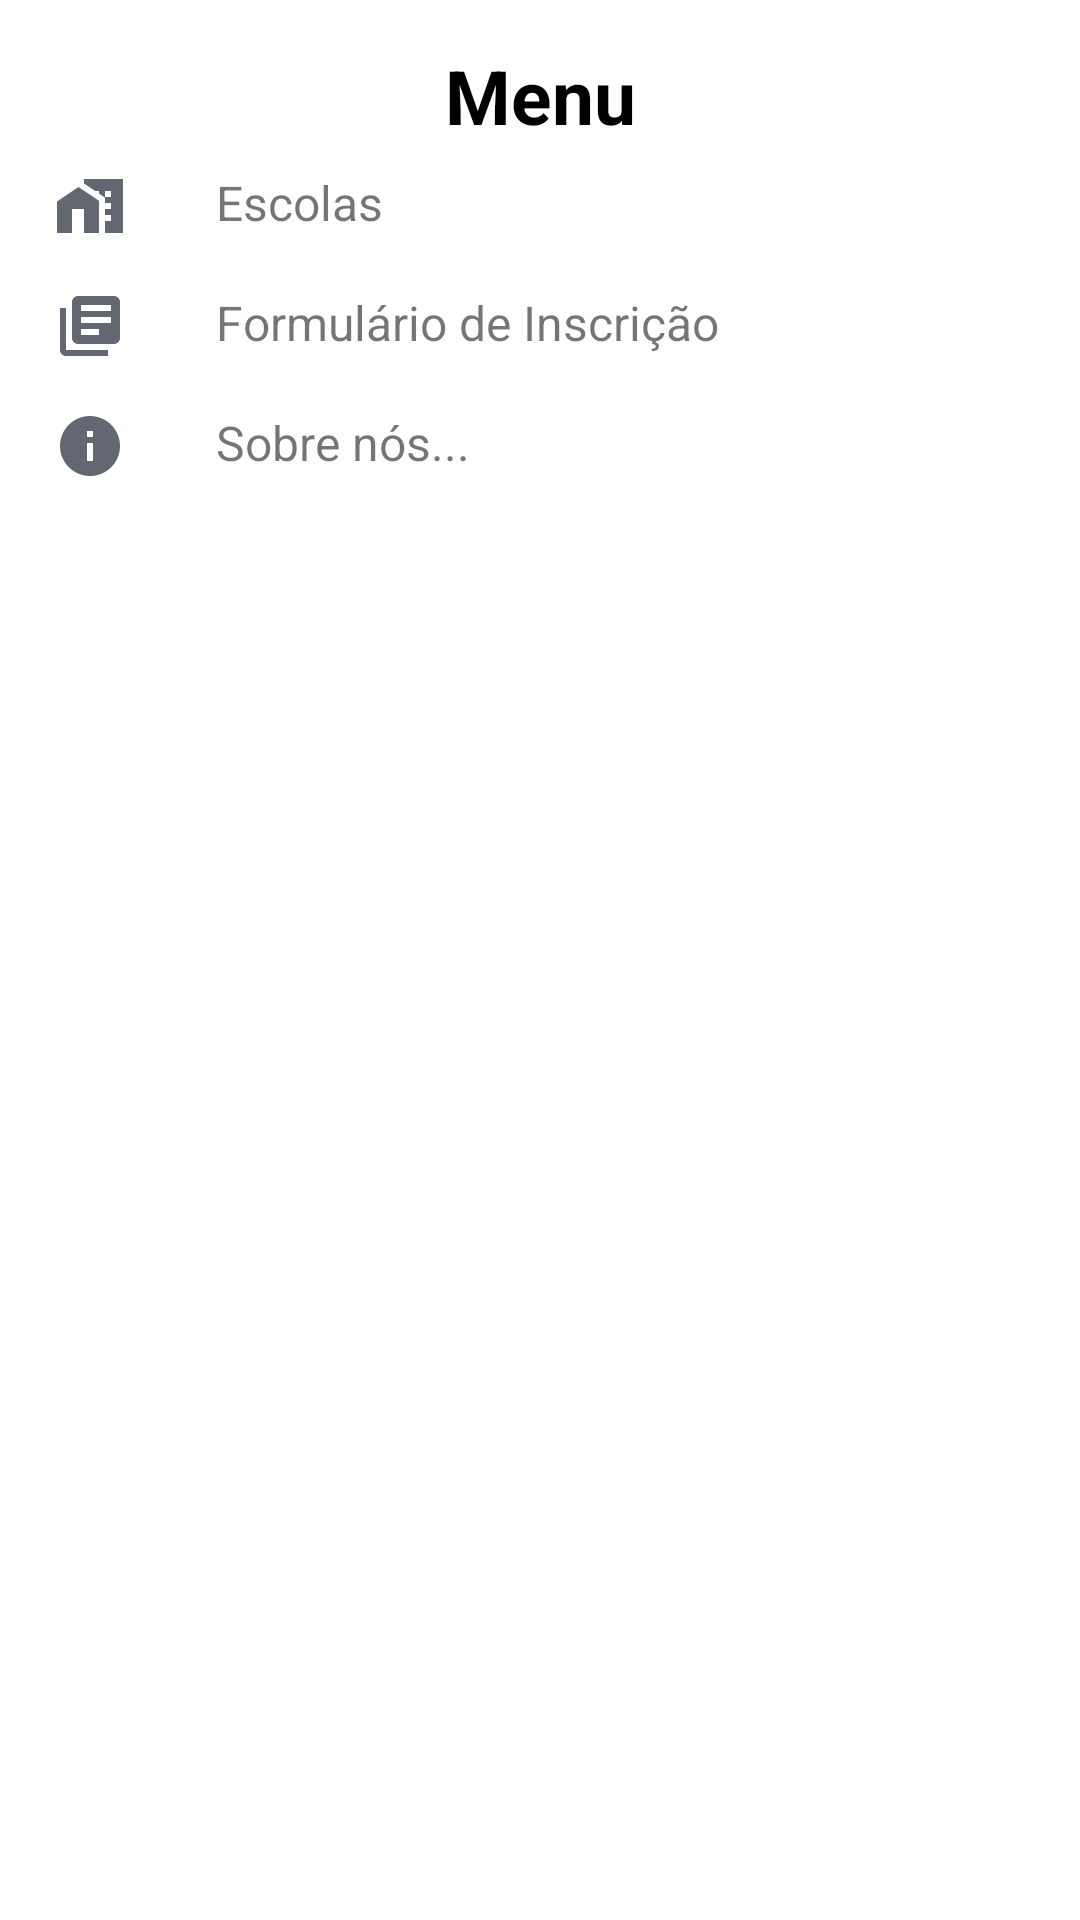

Icons on this 1080w x 1920h Android screen, each with the point to tap as (x=x, y=y):
home work: (x=90, y=206)
info: (x=90, y=446)
library books: (x=90, y=326)
